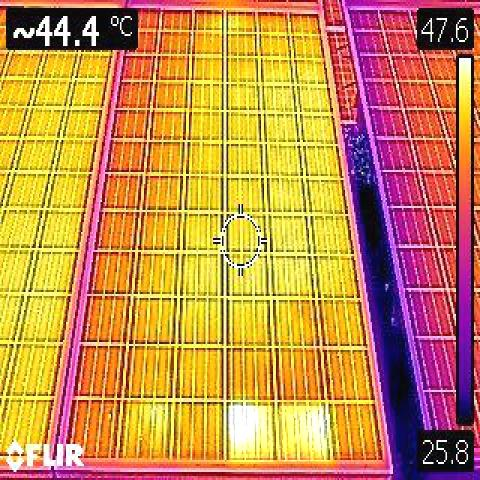fault: (279, 404, 328, 461), (229, 405, 273, 462)
